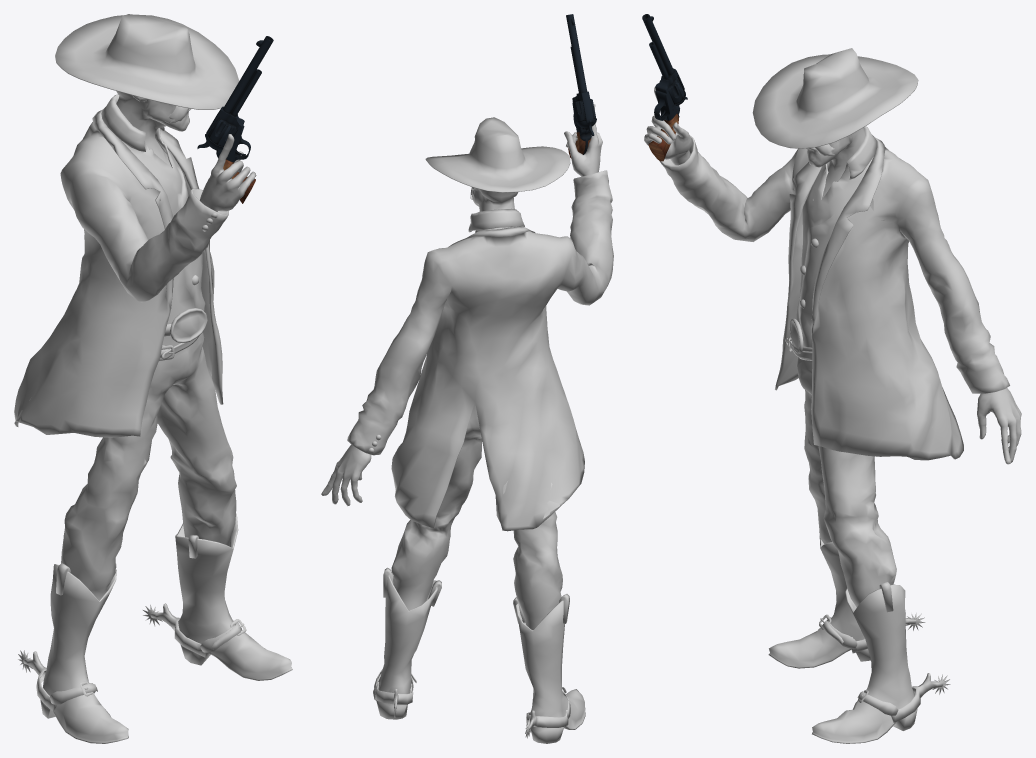
File: GunSlinger.FBX
3 views of the same model, side by side, from view 1: azimuth 30°, elevation 25°; view 2: azimuth 150°, elevation 25°; view 3: azimuth 270°, elevation 25° (orthographic). The views are drawn at different scales.
Visible parts, largest first — view 1: gunslinger, revolver; view 2: gunslinger, revolver; view 3: gunslinger, revolver.
Boxes of the visible parts, x1=… form: gunslinger: x1=14, y1=14, x2=292, y2=743; revolver: x1=197, y1=36, x2=273, y2=203; gunslinger: x1=321, y1=103, x2=613, y2=743; revolver: x1=566, y1=14, x2=596, y2=158; gunslinger: x1=644, y1=48, x2=1021, y2=743; revolver: x1=642, y1=14, x2=687, y2=161.
Size of the model in its own units: 73.36 by 107 by 213.
